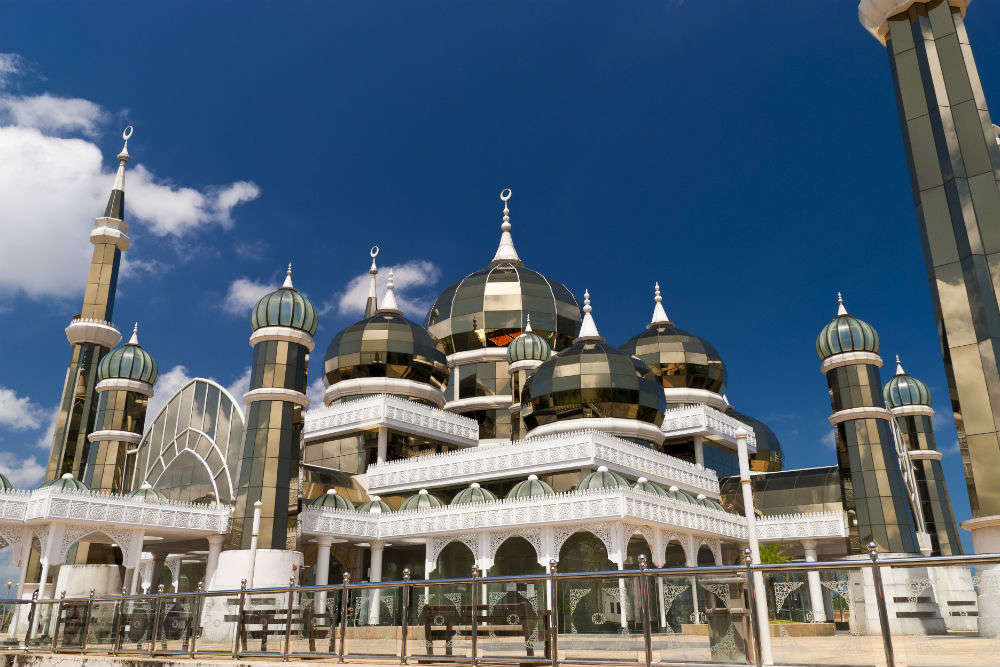Mosque: (3, 98, 967, 601)
